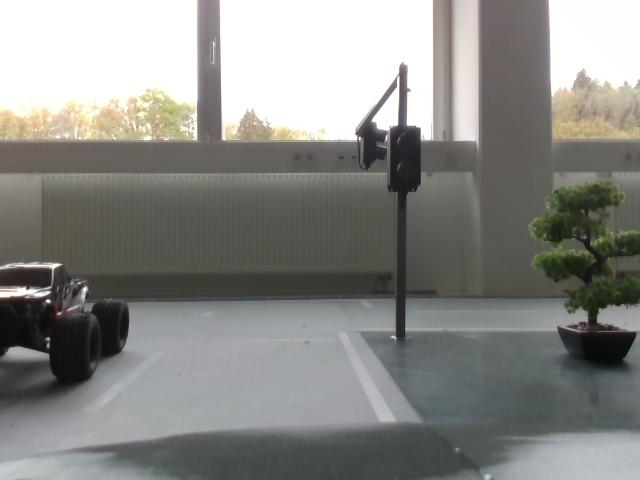car: (4, 257, 132, 383)
potted plant: (539, 176, 640, 372)
traffic light: (394, 131, 426, 194), (358, 120, 385, 176)
